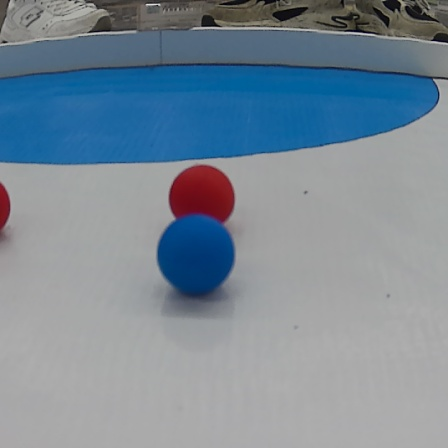blue: (152, 213, 235, 299)
blue_base: (0, 58, 443, 164)
red: (164, 165, 237, 234)
